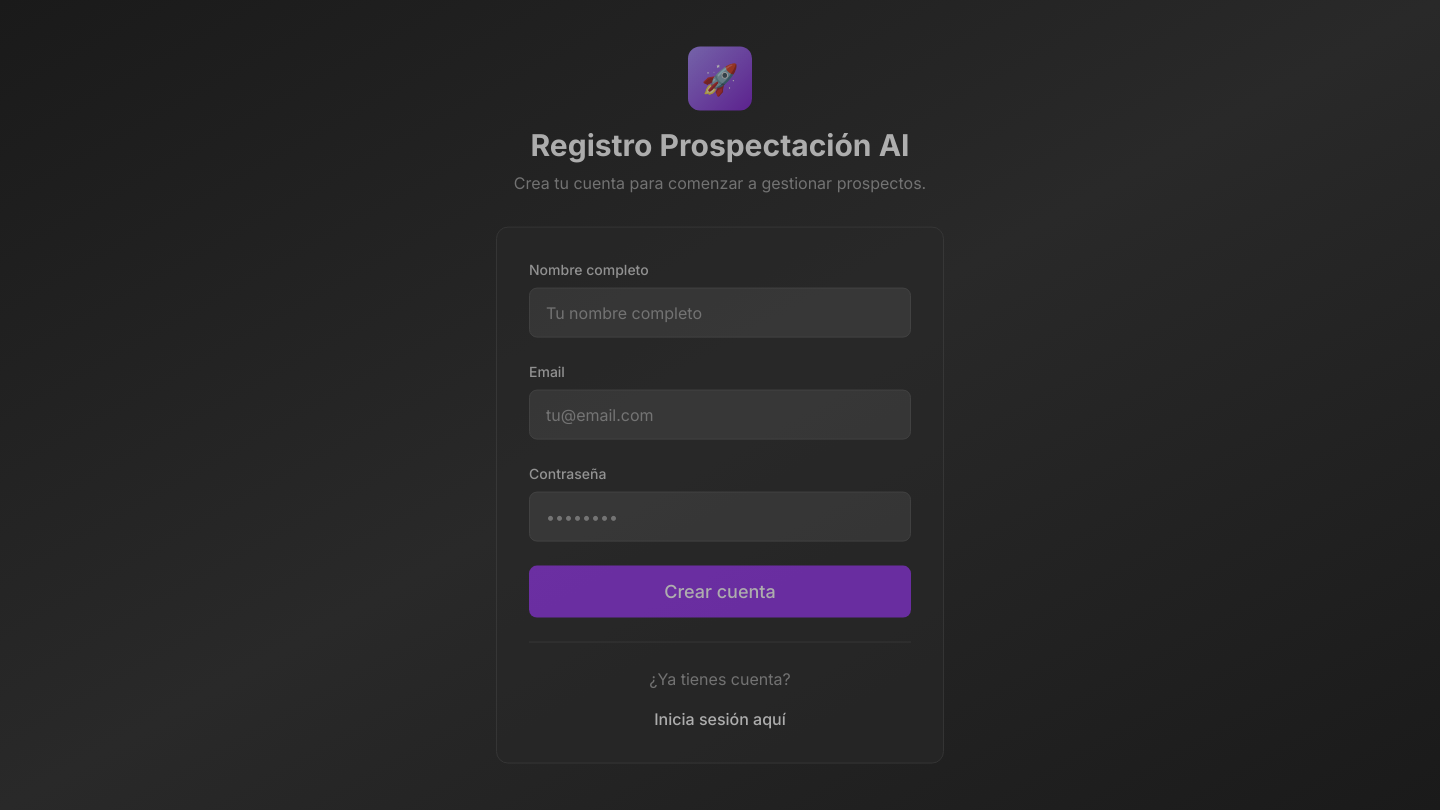
it: RegisterPage › displays an error when registration fails
In the field with placeholder "Tu nombre completo": (720, 312) [529, 287, 911, 337], type "Existing User"
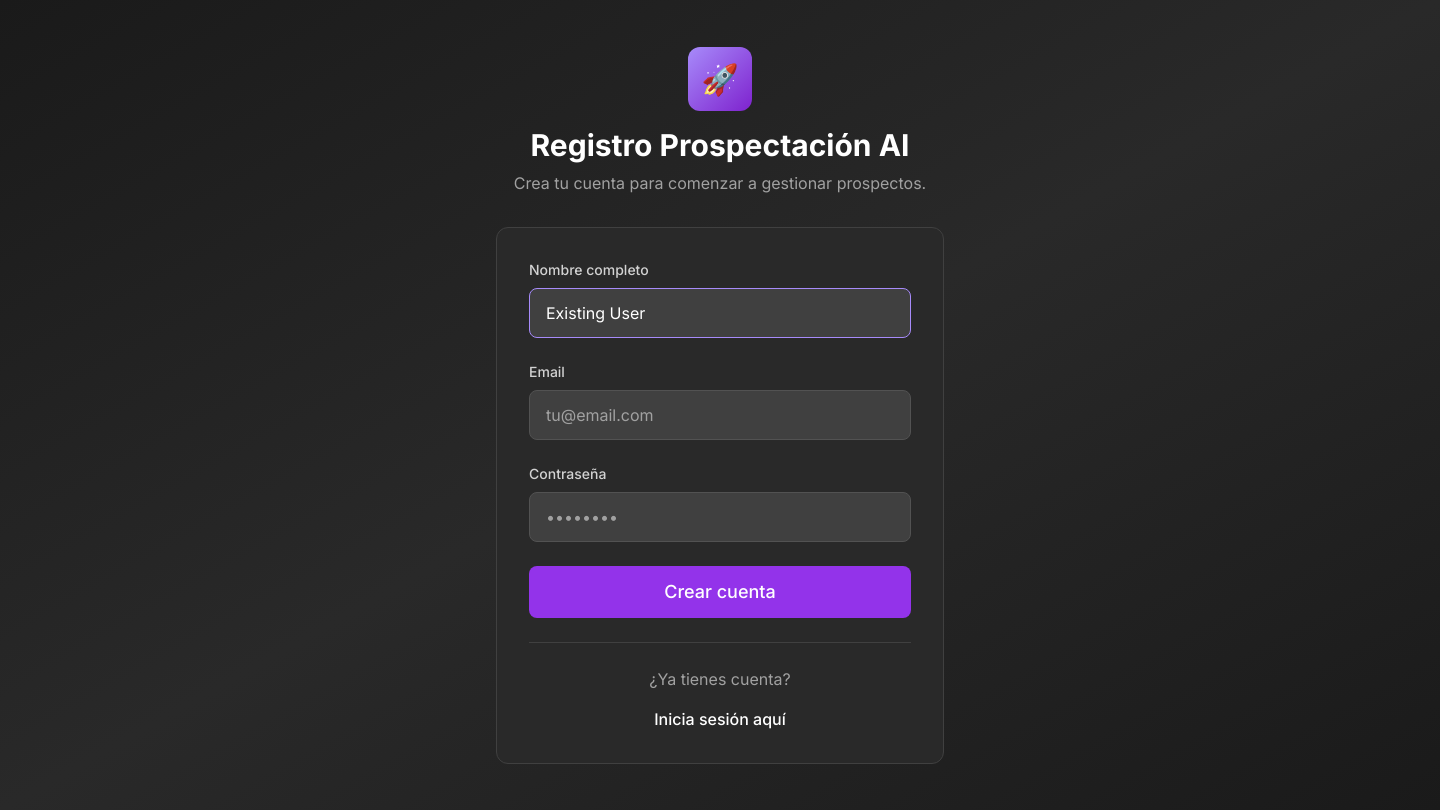
In the field with placeholder "tu@email.com": (720, 414) [529, 390, 911, 440], type "existing@example.com"
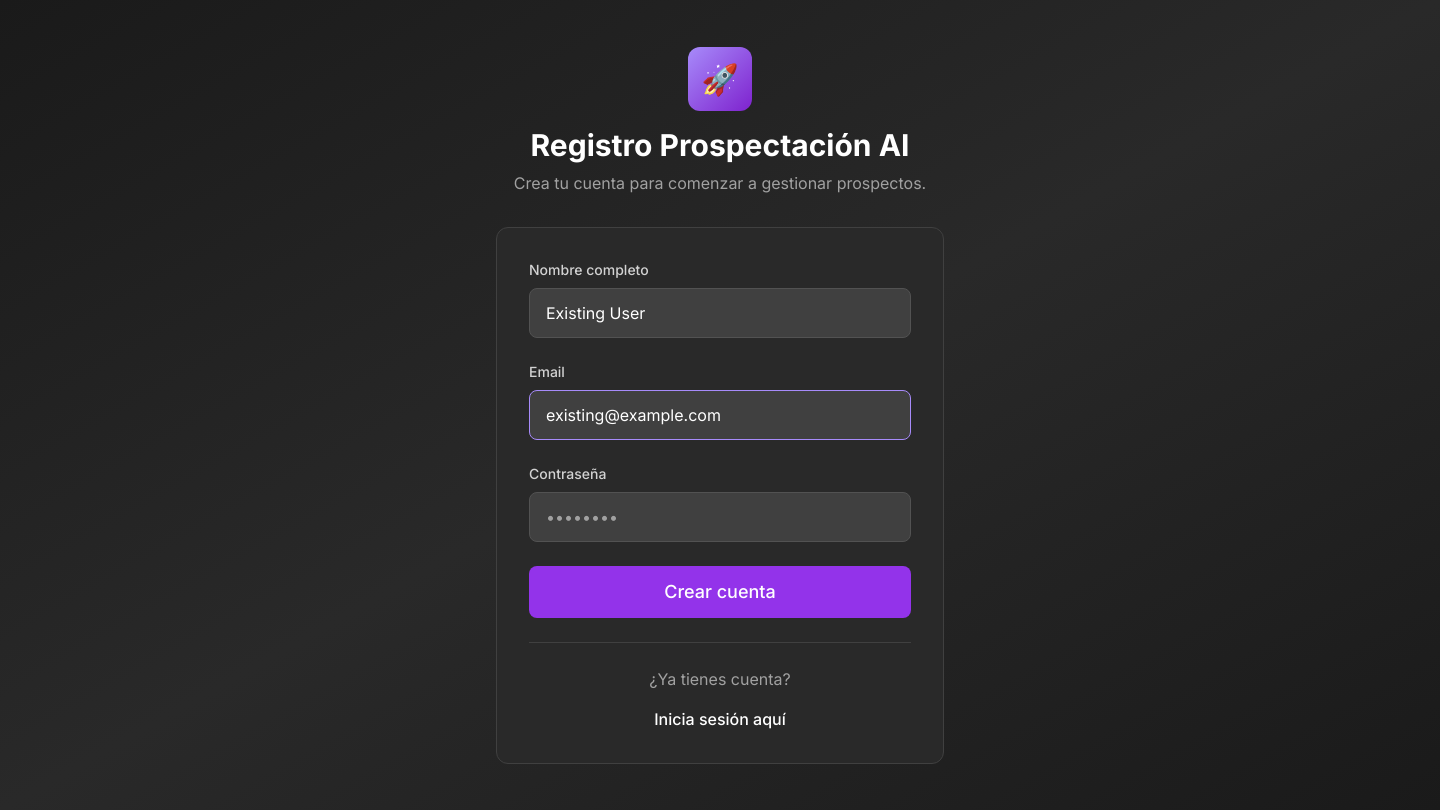
In the password field with placeholder "••••••••": (720, 516) [529, 492, 911, 542], type "password123"
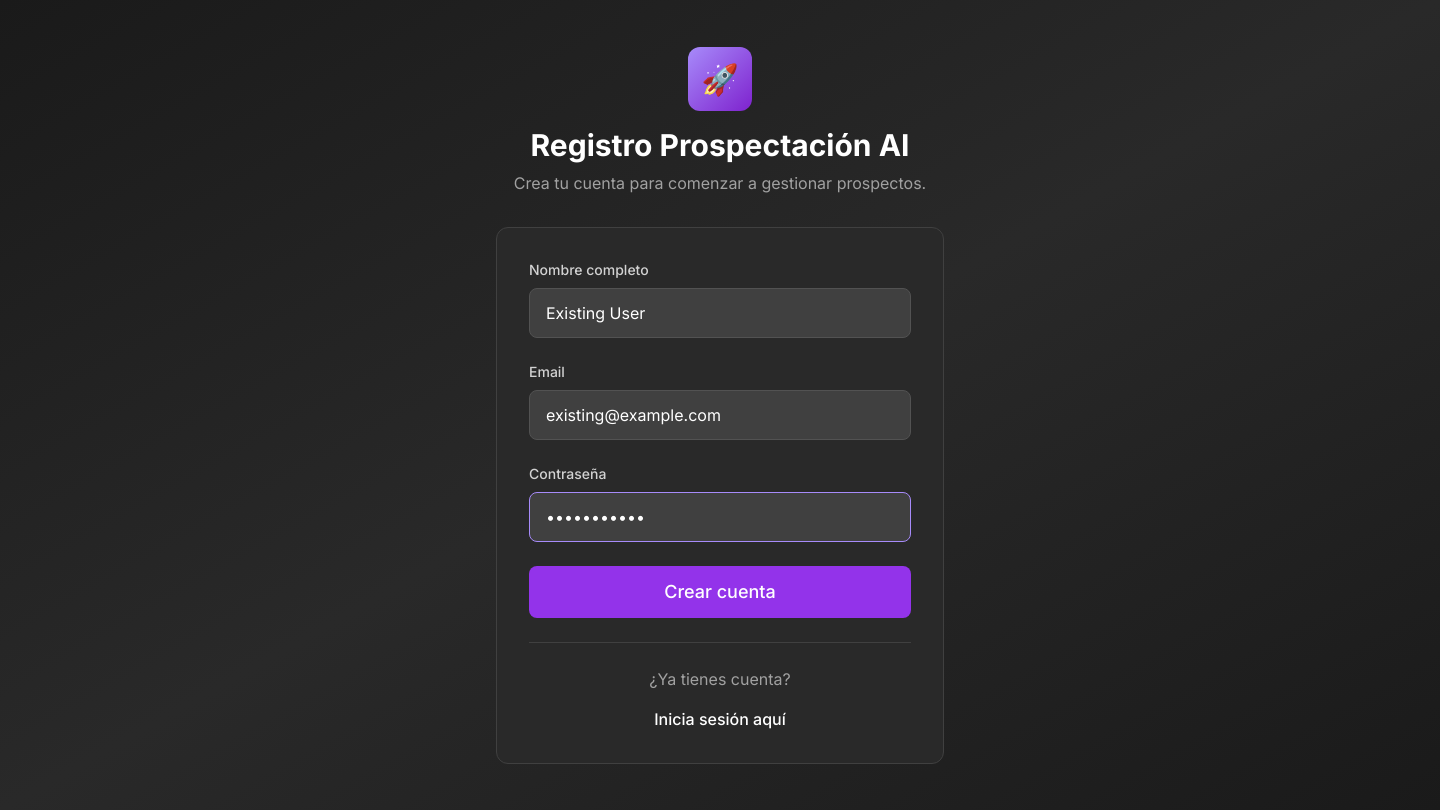
Click the button "Crear cuenta": (720, 592) [529, 566, 911, 618]
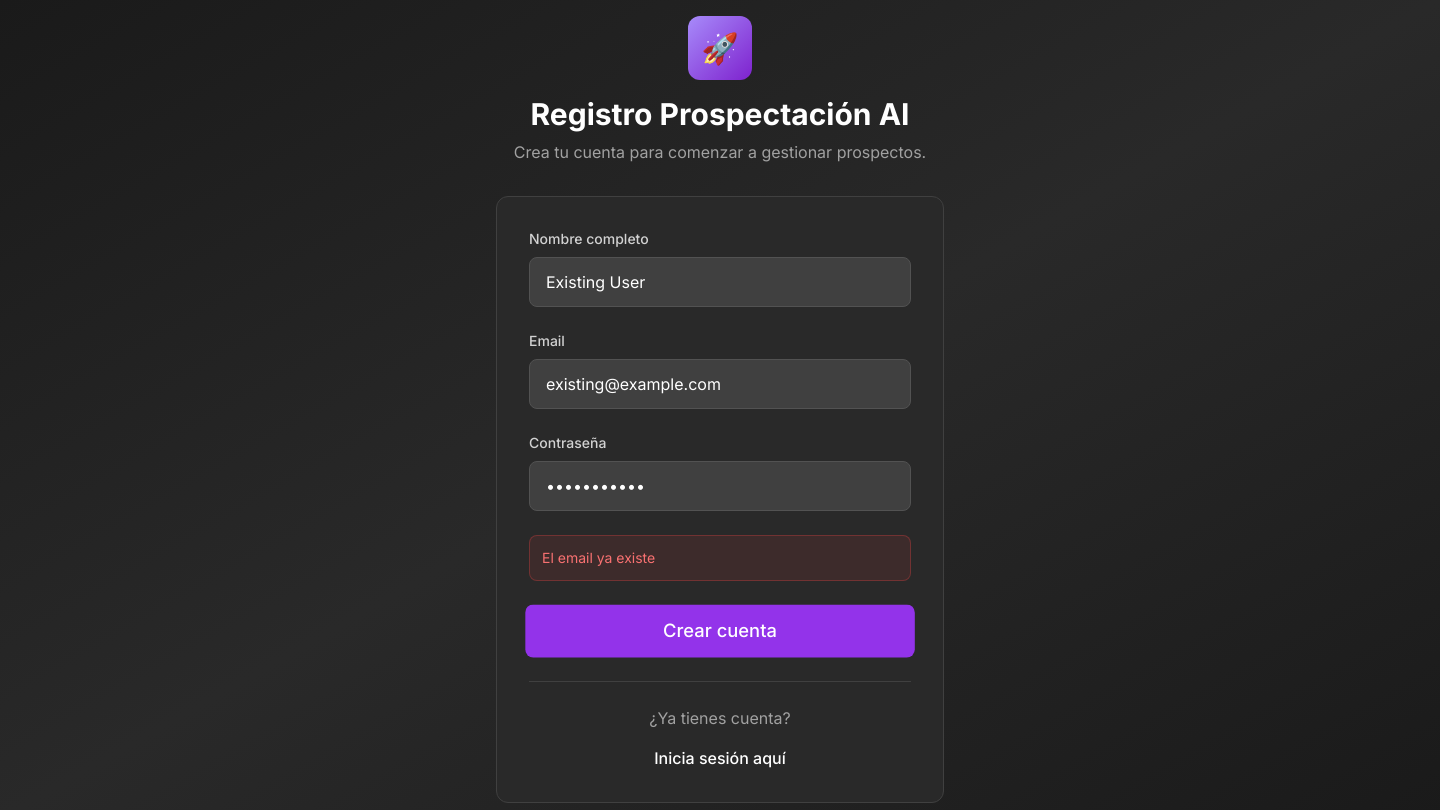
Now the text "El email ya existe" is shown, box [529, 535, 911, 581]
